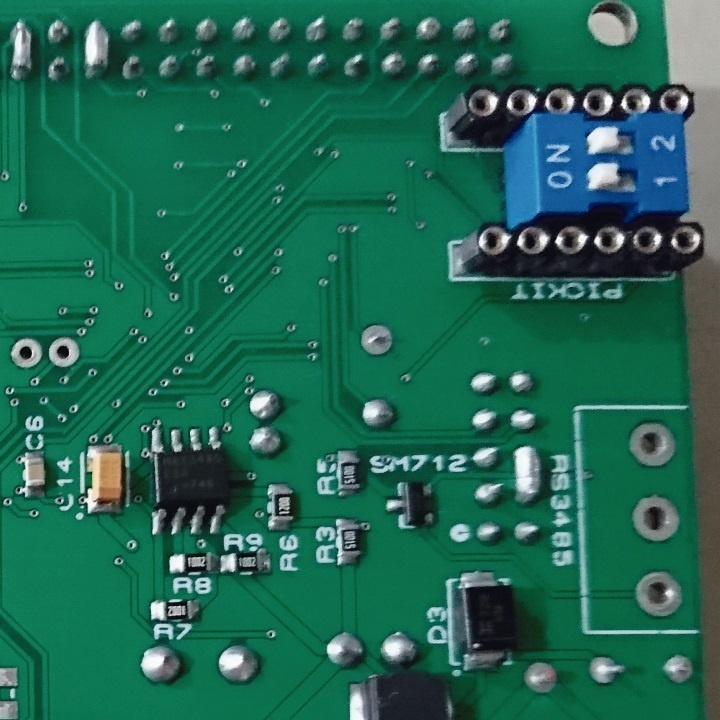F: (633, 567, 688, 623), (626, 419, 679, 470), (629, 492, 681, 543), (358, 320, 396, 359), (521, 658, 559, 697), (9, 332, 46, 371), (49, 332, 84, 372), (585, 654, 627, 686), (662, 651, 696, 686)
P: (510, 441, 543, 507), (81, 15, 113, 83), (8, 16, 36, 85)
